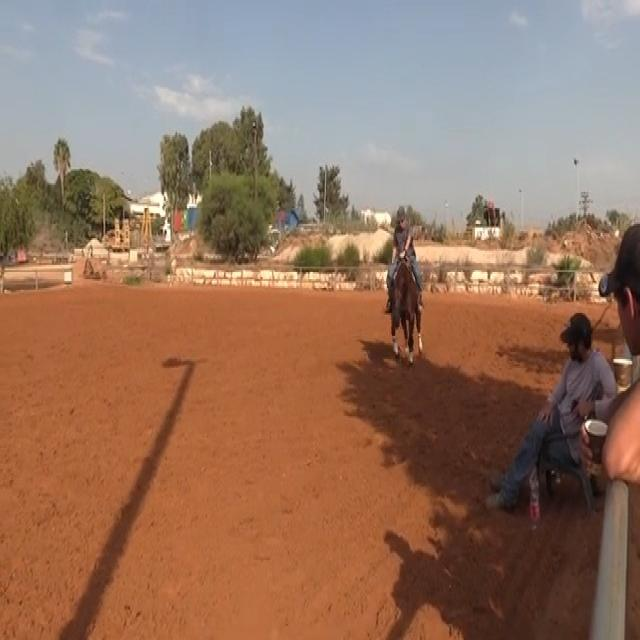horse: (386, 249, 424, 364)
